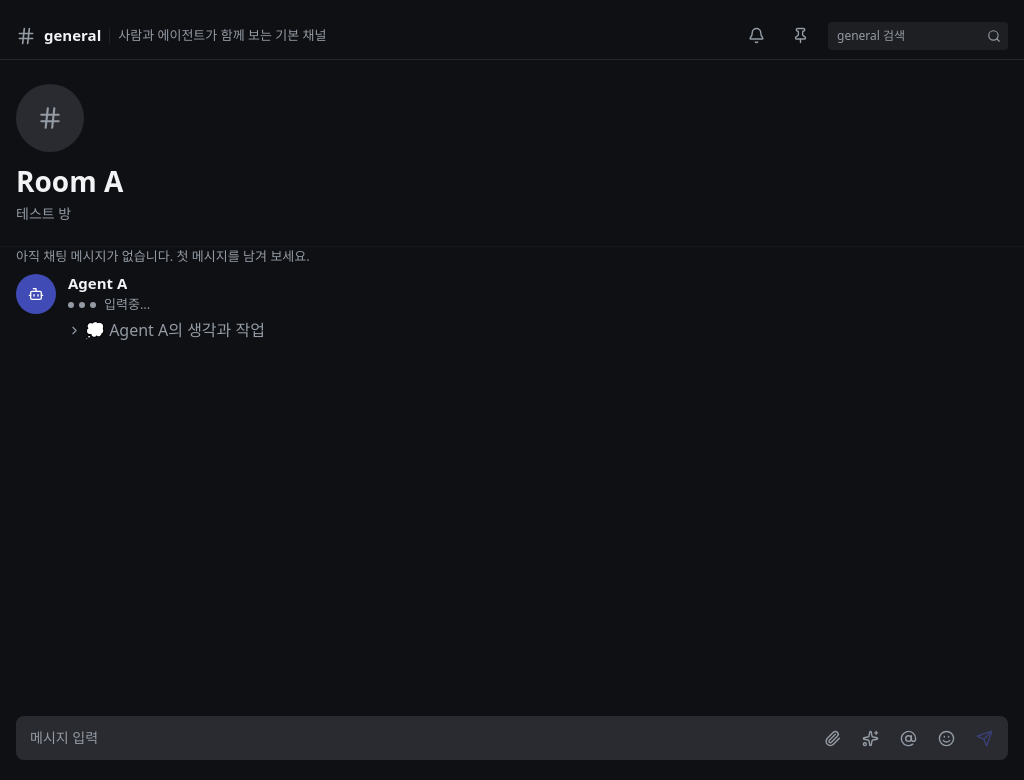
Test: LobbyView active provider turn › shows failed tool activity as failed instead of completed or still running
The width and height of the screenshot is (1024, 780).
What coordinates should you click on to do the following:
click the button "💭 Agent A의 생각과 작업"
I would click on:
 (166, 330)
Its box is [68,318,265,342].
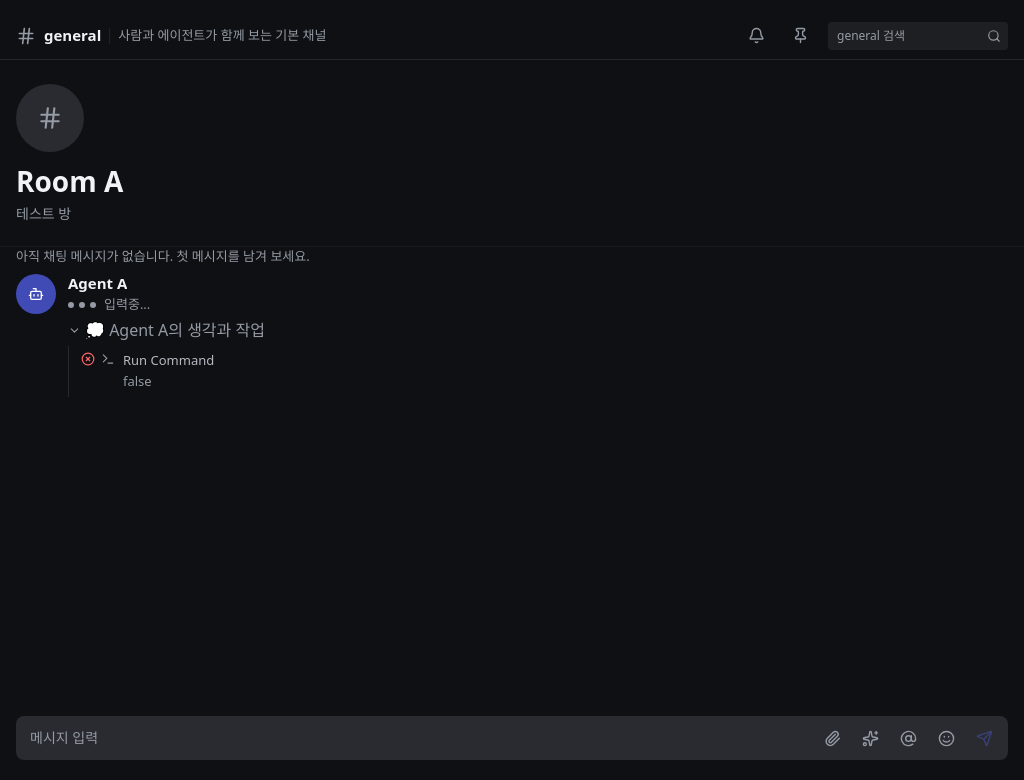
Result: the text "Run Command" is shown at [123,351,214,369]
Result: the icon named "실패" is shown at [81,352,95,366]
